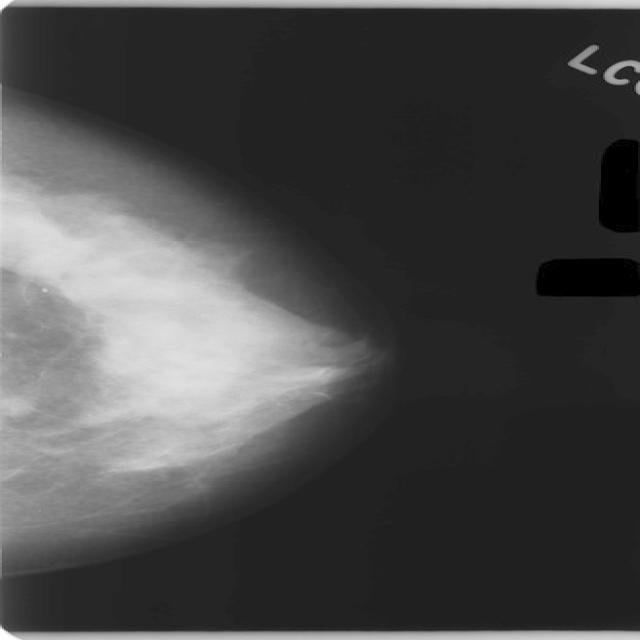tumour: (0, 394, 33, 420)
